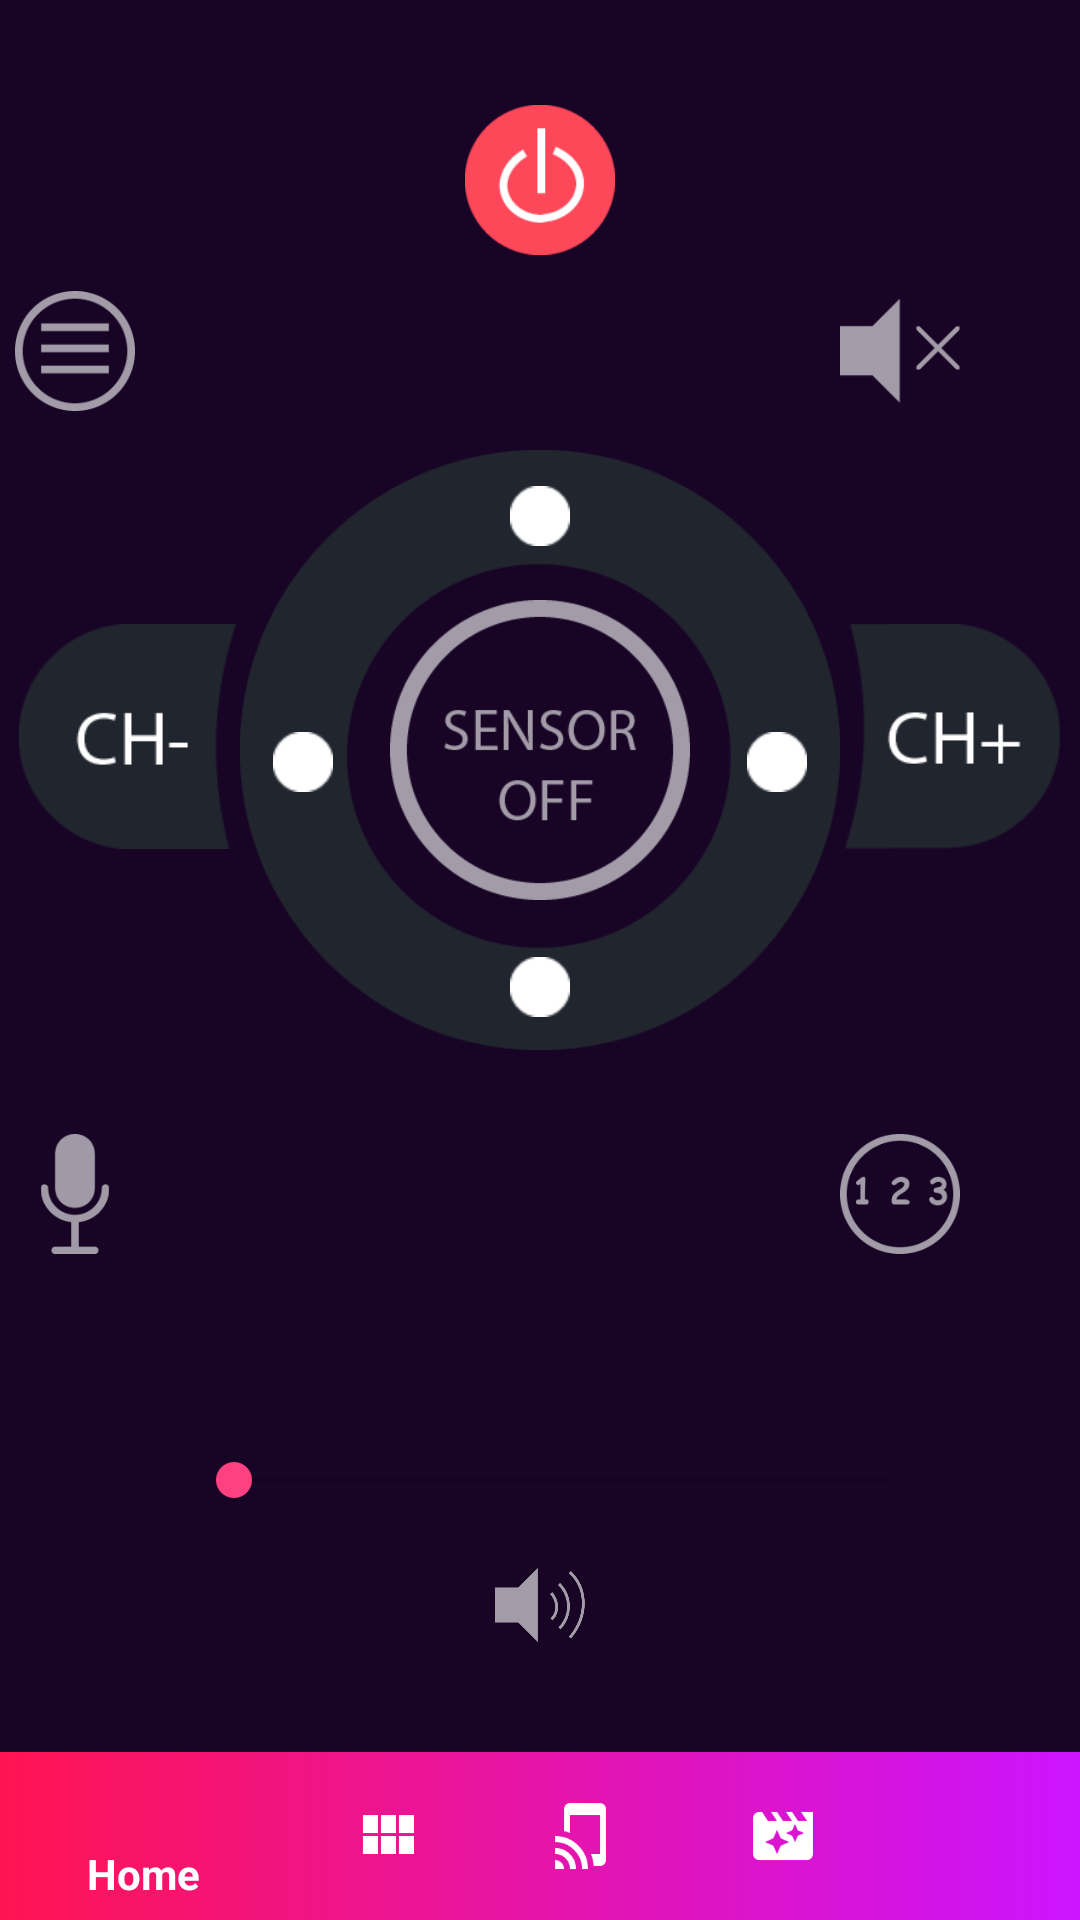

Icon click points for this 1080px x 1920px phone screenshot, format (x,y):
menu: (75,351)
mike: (75,1194)
mute: (900,351)
power: (540,180)
volume: (540,1605)
